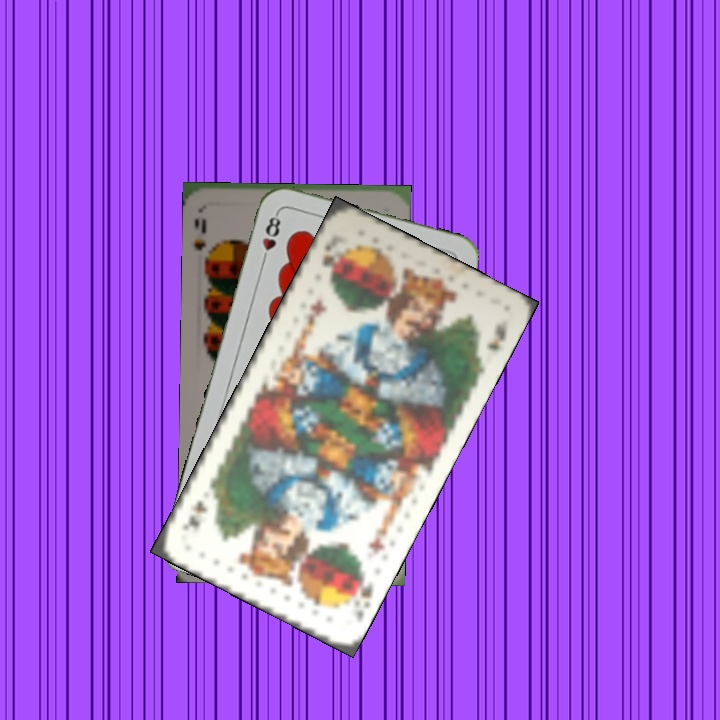H8: (257, 208, 284, 267)
S9: (190, 214, 216, 266)
SK: (352, 567, 376, 610), (317, 241, 342, 282)
